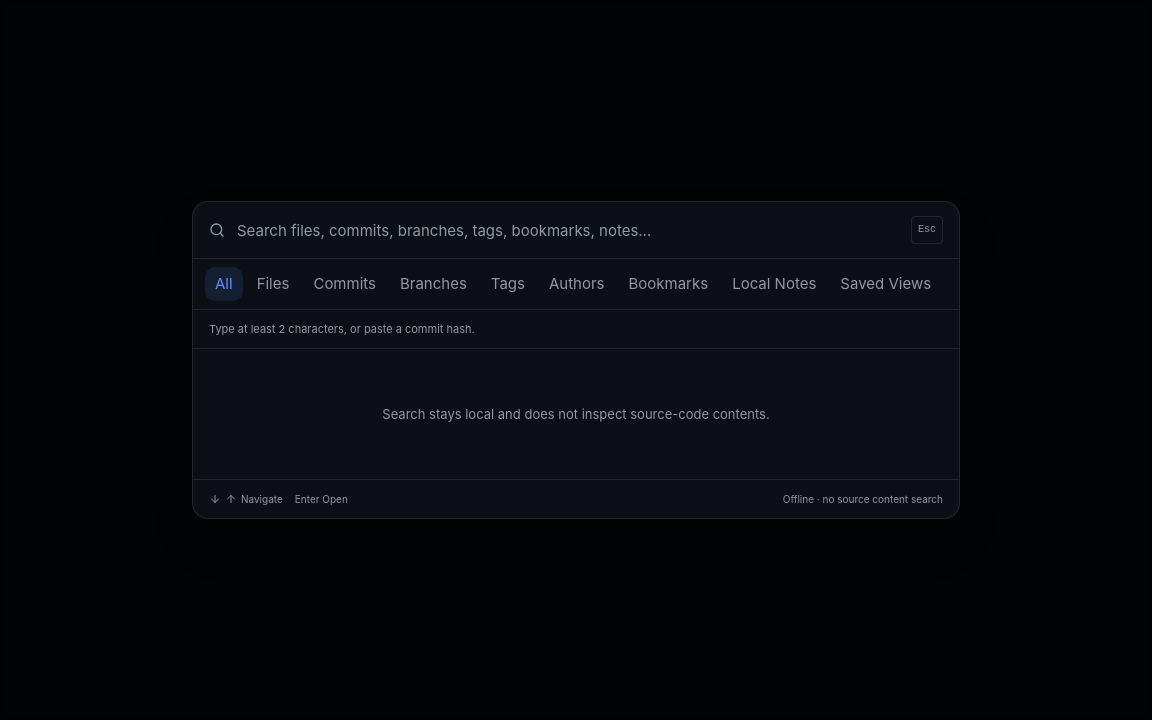
Test: GlobalSearch › searches local metadata categories without invoking repository search
Click the tab "Bookmarks". click: click(668, 284)
box: [618,267,718,301]
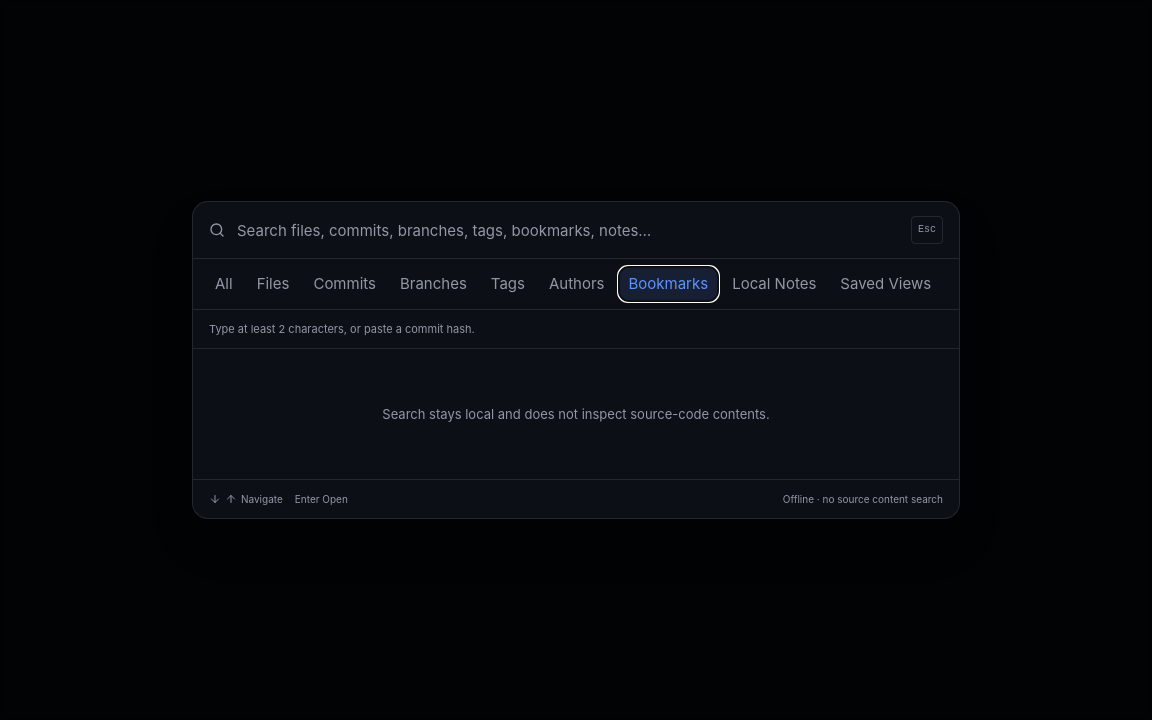
Type "release" into the field named "Search repository". click: (568, 230)
box: [233,202,903,258]
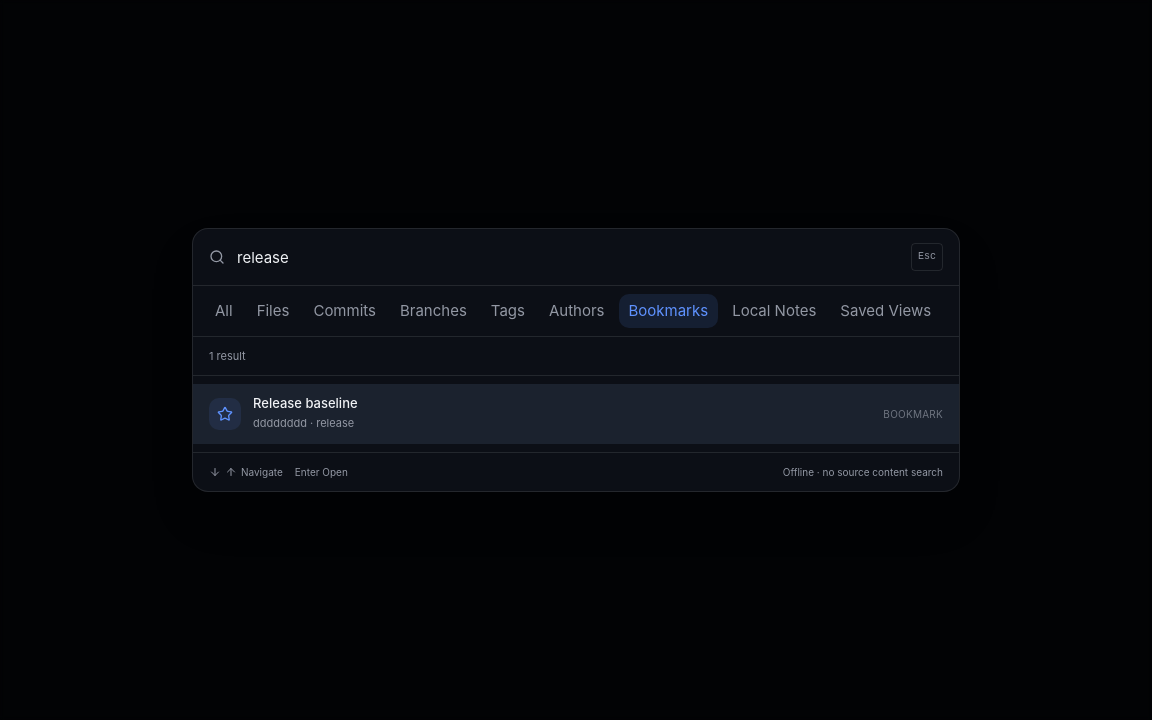
Result: the option "Release baseline" is shown at [193,384,959,444]
Click the tab "Local Notes". click: click(774, 311)
box: [722,294,826,328]
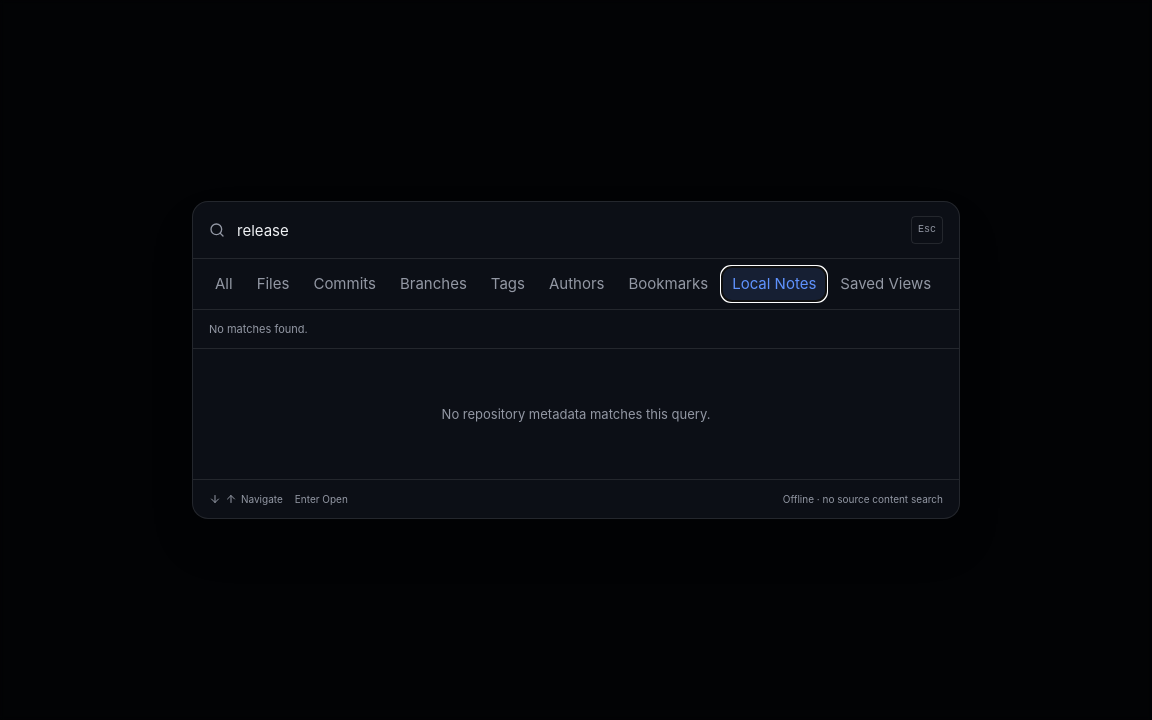
Replace the text in the field named "Search repository" with "retry". click: (568, 230)
box: [233,202,903,258]
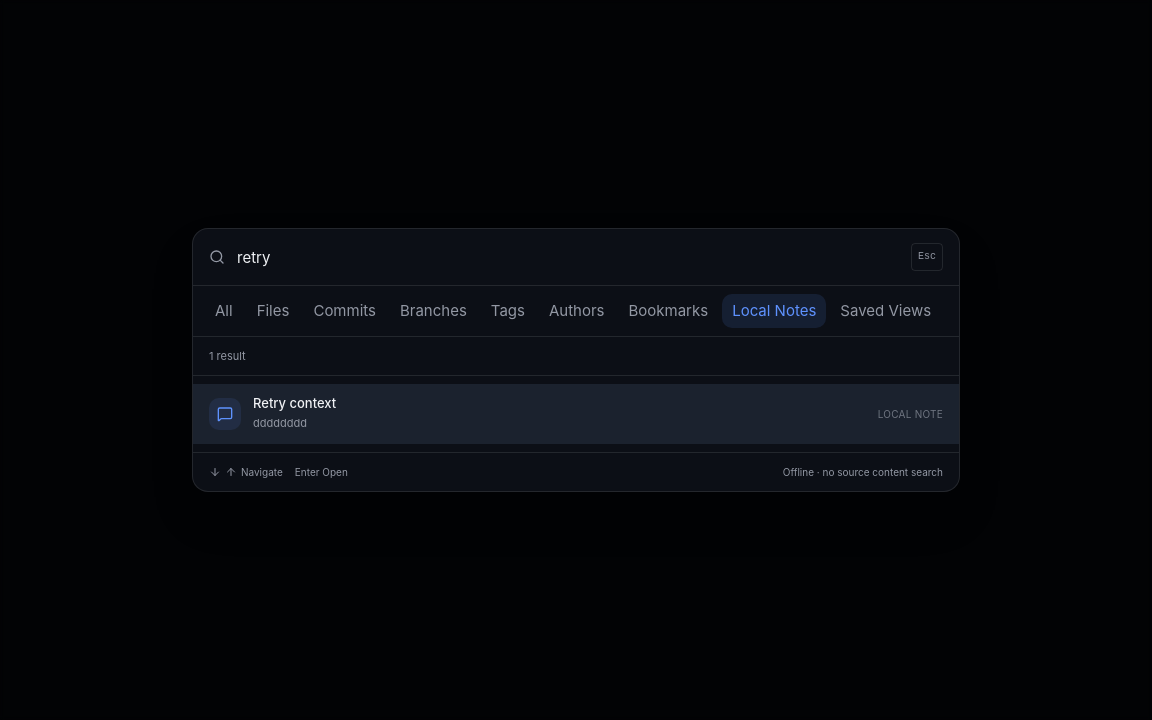
Result: the option "Retry context" is shown at [193,384,959,444]
